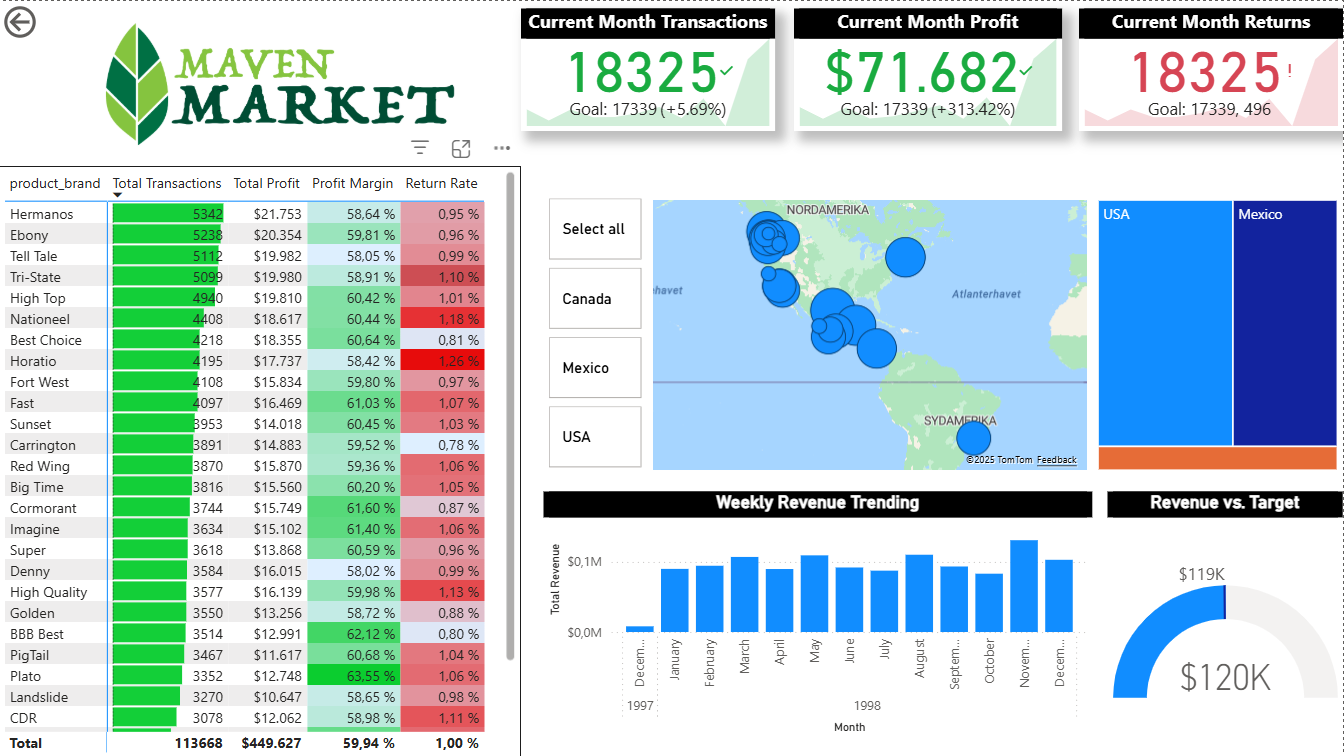

This screenshot's page, from the dashboard's own definition file:
{"tool":"powerbi","page":{"name":"Topline Performance","canvas":[1280,720],"ordinal":0},"visuals":[{"type":"pivotTable","fields":{"Rows":["Products.product_brand"],"Values":["Transaction_data.Total Transactions","Products.Total Profit","Products.Profit Margin","Return_data.Return Rate"]},"box":[0,156.9,496.6,563.8],"z":0},{"type":"kpi","title":"Current Month Transactions","fields":{"Indicator":["Transaction_data.Total Transactions"],"TrendLine":["Calendar.Start of Month"],"Goal":["Transaction_data.Last Month Transactions"]},"box":[496.7,6.7,241.7,116.7],"z":1000},{"type":"kpi","title":"Current Month Profit","fields":{"TrendLine":["Calendar.Start of Month"],"Goal":["Transaction_data.Last Month Transactions"],"Indicator":["Products.Total Profit"]},"box":[756.7,6.7,255,116.7],"z":2000},{"type":"kpi","title":"Current Month Returns","fields":{"Indicator":["Transaction_data.Total Transactions"],"TrendLine":["Calendar.Start of Month"],"Goal":["Transaction_data.Last Month Transactions","Return_data.Total Returns"]},"box":[1028.3,6.7,251.7,116.7],"z":3000},{"type":"azureMap","fields":{"Category":["Stores.store_city"],"Size":["Transaction_data.Total Transactions"]},"box":[617.2,184.5,424.1,267.2],"z":4000},{"type":"advancedSlicerVisual","fields":{"Values":["Stores.store_country"]},"box":[519,182.8,98.3,267.2],"z":5000},{"type":"treemap","fields":{"Values":["Transaction_data.Total Transactions"],"Group":["Stores.store_country","Stores.store_state","Stores.store_city"]},"box":[1041.4,184.5,237.9,267.2],"z":6000},{"type":"actionButton","box":[0,0,100,40],"z":7000},{"type":"columnChart","title":"Weekly Revenue Trending","fields":{"Y":["Products.Total Revenue"],"Category":["Calendar.Start of Week.Variation.Date Hierarchy.Year","Calendar.Start of Week.Variation.Date Hierarchy.Month","Calendar.Start of Week.Variation.Date Hierarchy.Day"]},"box":[519,467.2,522.4,234.5],"z":8000},{"type":"gauge","title":"Revenue vs. Target","fields":{"Y":["Products.Total Revenue"],"TargetValue":["Products.Revenue Target"]},"box":[1055.2,467.2,224.1,234.5],"z":9000},{"type":"image","box":[36.2,6.9,460.3,143.1],"z":9001}]}

Visuals, with their boxes on the page's 1280x720 design canvas (x1, y1, x2, y2). These are canvas units, not pixel positions in the 1344x756 screenshot, which may show the page scaled, cropped or inside an application window:
pivotTable - Products.product_brand x Transaction_data.Total Transactions: box(0, 157, 497, 721)
"Current Month Transactions" kpi: box(497, 7, 738, 123)
"Current Month Profit" kpi: box(757, 7, 1012, 123)
"Current Month Returns" kpi: box(1028, 7, 1280, 123)
azureMap - Stores.store_city x Transaction_data.Total Transactions: box(617, 184, 1041, 452)
advancedSlicerVisual - Stores.store_country: box(519, 183, 617, 450)
treemap - Transaction_data.Total Transactions x Stores.store_country: box(1041, 184, 1279, 452)
actionButton: box(0, 0, 100, 40)
"Weekly Revenue Trending" columnChart: box(519, 467, 1041, 702)
"Revenue vs. Target" gauge: box(1055, 467, 1279, 702)
image: box(36, 7, 496, 150)
